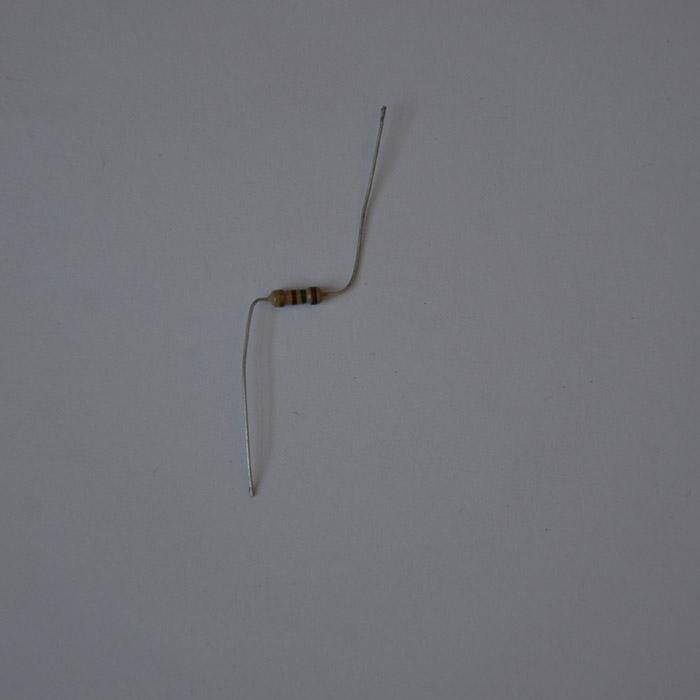resistor: (270, 286, 323, 307)
